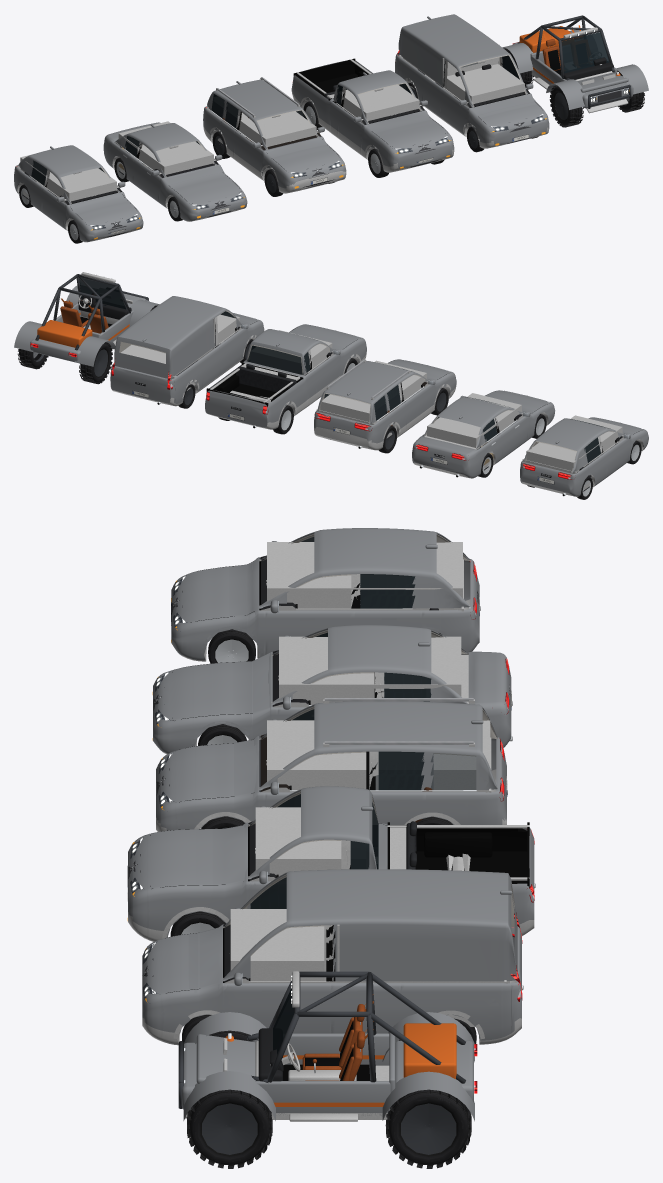
The model's file is cars.glb.
3 views of the same model, one above another, from view 1: azimuth 30°, elevation 25°; view 2: azimuth 150°, elevation 25°; view 3: azimuth 270°, elevation 25° (orthographic). The views are drawn at different scales.
Visible parts, largest first — view 1: body_van, body_suv, body_pickup, body_rover, lo_van, body_sedan, body_hatch, lo_pickup, lo_sedan, lo_suv, lo_hatch, lo_rover (+6 smaller); view 2: body_van, body_suv, body_pickup, body_rover, body_sedan, body_hatch, lo_van, lo_pickup, lo_sedan, lo_suv, lo_hatch, lo_rover (+5 smaller); view 3: body_van, lo_van, body_rover, body_suv, body_pickup, body_hatch, body_sedan, lo_suv, lo_rover, lo_hatch, lo_sedan, lo_pickup (+7 smaller).
Part boxes in pixels (x1,y1,x2,y2): body_van: (395,14,549,148); body_suv: (203,77,346,193); body_pickup: (291,58,454,172); body_rover: (502,25,648,113); lo_van: (397,20,543,152); body_sedan: (103,122,247,221); body_hatch: (14,145,143,242); lo_pickup: (292,60,448,176); lo_sedan: (106,121,236,220); lo_suv: (204,93,340,195); lo_hatch: (15,154,139,243); lo_rover: (510,15,643,124); body_van: (110,296,264,406); body_suv: (314,359,456,450); body_pickup: (205,324,366,429); body_rover: (14,272,159,366); body_sedan: (412,390,555,478); body_hatch: (520,417,648,496); lo_van: (119,296,262,407); lo_pickup: (208,324,364,433); lo_sedan: (416,392,548,478); lo_suv: (314,360,454,452); lo_hatch: (524,415,646,498); lo_rover: (20,274,131,380); body_van: (142,869,523,1045); lo_van: (150,869,519,1044); body_rover: (178,971,477,1121); body_suv: (156,698,507,831); body_pickup: (127,786,535,941); body_hatch: (171,528,480,661); body_sedan: (152,625,512,754); lo_suv: (175,705,503,829); lo_rover: (191,971,467,1163); lo_hatch: (179,531,474,663); lo_sedan: (160,625,507,749); lo_pickup: (147,789,531,939).
Size of the model in its own units: 17.23 by 2.12 by 5.37.
Materials: 68 (51 with a texture image).
